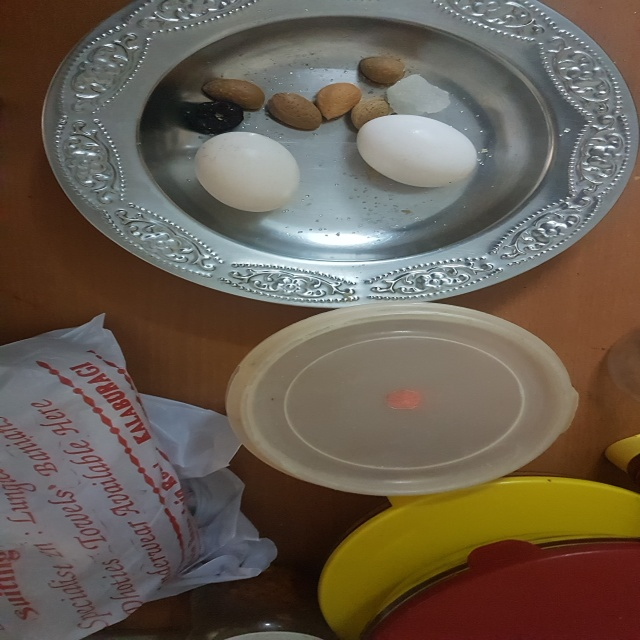eggs: (354, 106, 485, 187), (190, 127, 304, 219)
